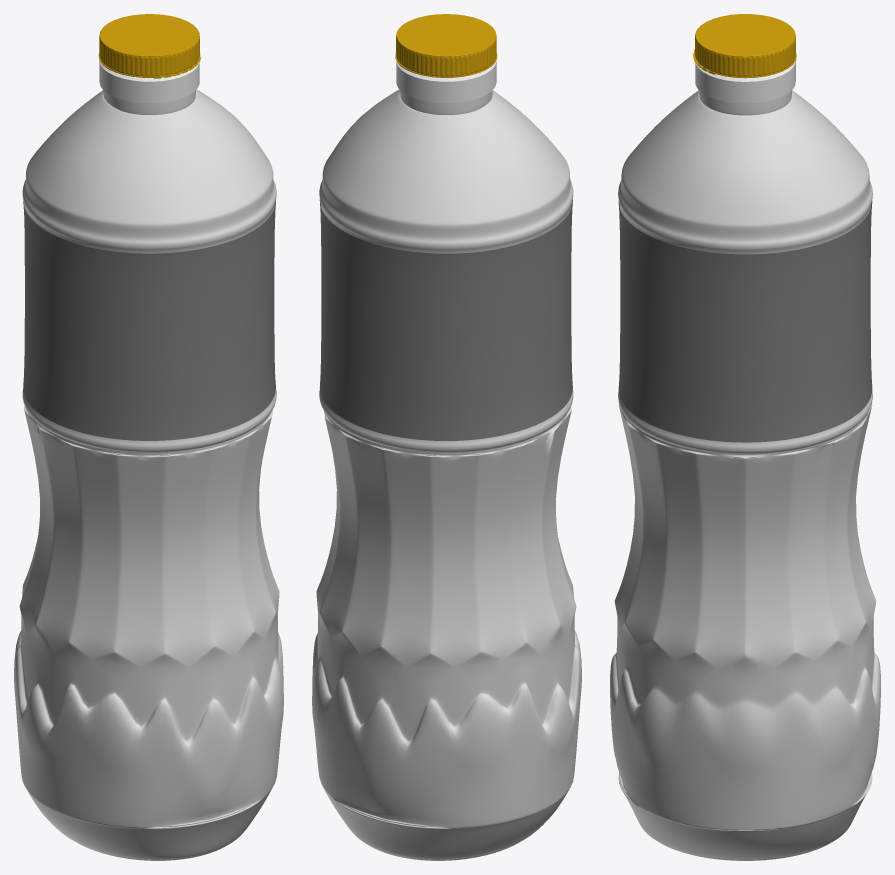
3 renders of one model, left to right at view 1: azimuth 30°, elevation 25°; view 2: azimuth 150°, elevation 25°; view 3: azimuth 270°, elevation 25°, orthographic.
Visible parts, largest first — view 1: Circle01, 3dxy, Cylinder01; view 2: Circle01, 3dxy, Cylinder01; view 3: Circle01, 3dxy, Cylinder01.
Part boxes in pixels (bbox=[...]): Circle01: bbox=[14, 89, 283, 860]; 3dxy: bbox=[23, 200, 275, 440]; Cylinder01: bbox=[98, 14, 201, 103]; Circle01: bbox=[312, 89, 581, 860]; 3dxy: bbox=[319, 199, 572, 440]; Cylinder01: bbox=[395, 14, 497, 103]; Circle01: bbox=[610, 90, 880, 860]; 3dxy: bbox=[618, 201, 872, 442]; Cylinder01: bbox=[692, 14, 796, 103].
Bounding box in the file's own units: 30.42 × 96.01 × 29.91.
